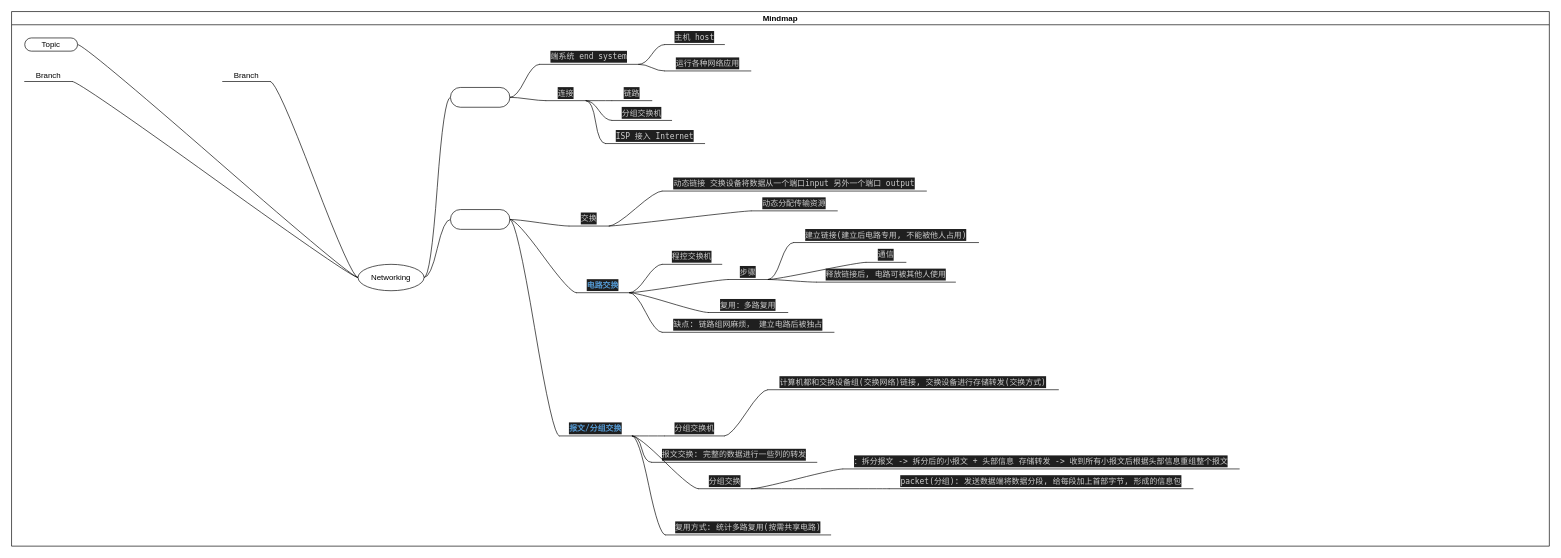
Image size: 1561x558. Some labels were removed from this diagram. Each missing label, with the centre of its shape:
"数据传输" goes at [480,219].
"网络组成" goes at [480,97].
